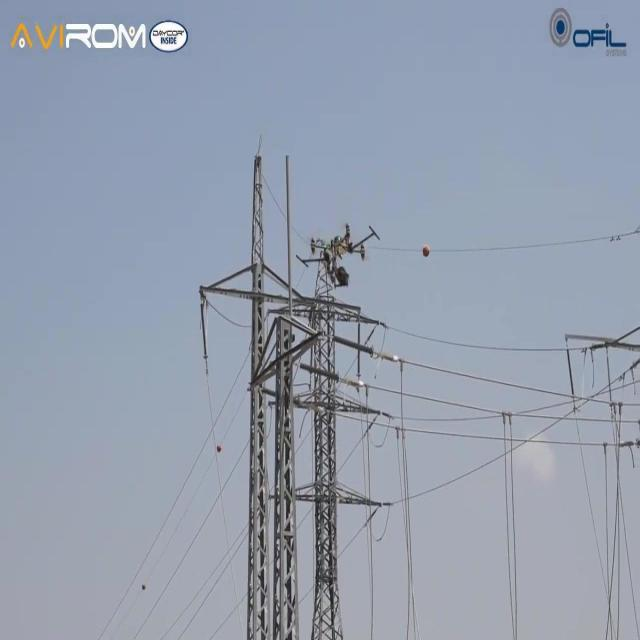UAV: (310, 223, 380, 261)
